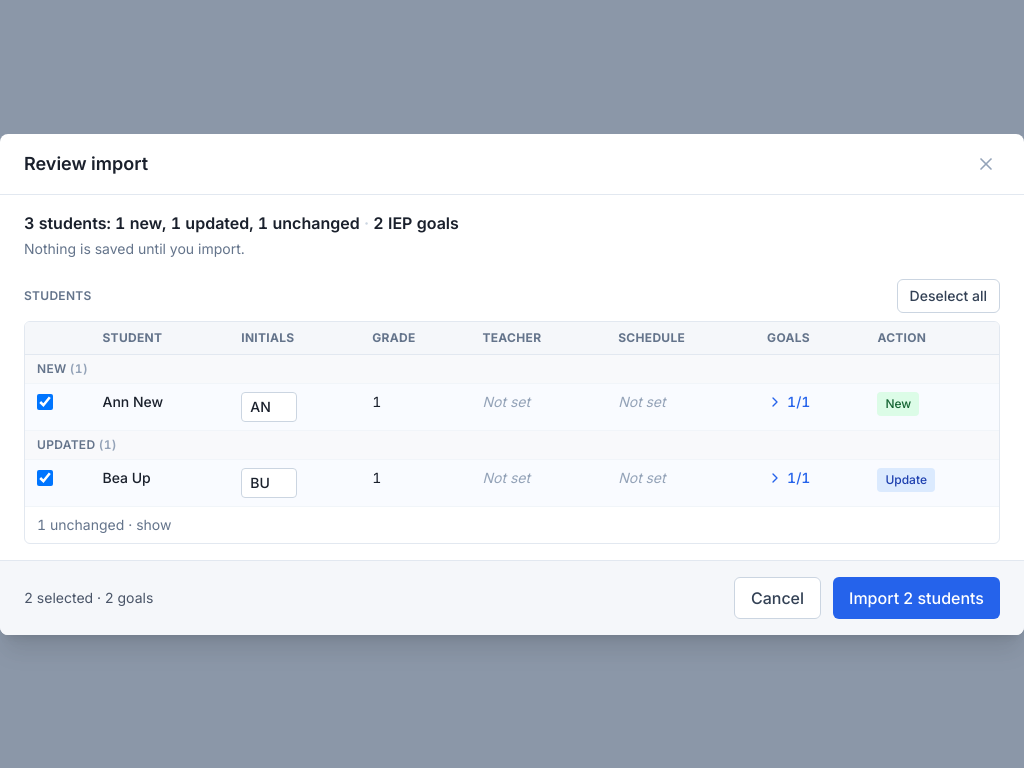
StudentImportReview (SPE-227) › sends only selected rows and keeps the modal open on partial failure (SPE-222)
Click the button "Import 2 students" at {"x": 916, "y": 598}, box 833,576 -> 1000,618
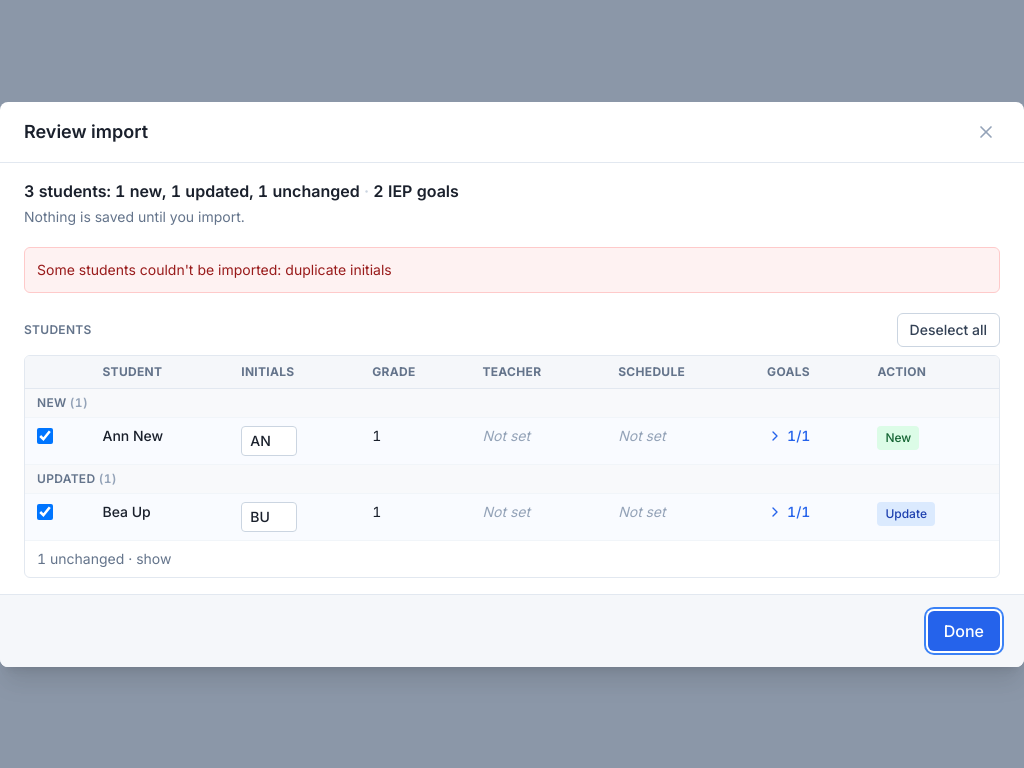
expect the button "Done" is shown: met, box 928,610 -> 1000,650
expect the button "Import 2 students" is gone: met
